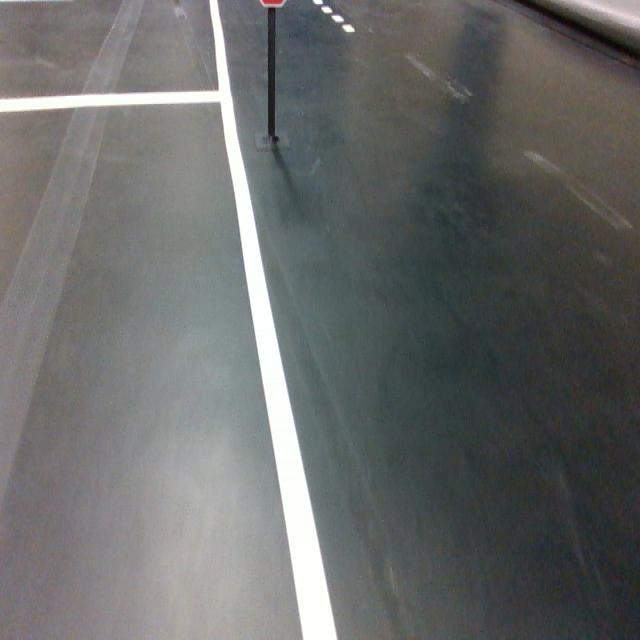stop-sign: (258, 0, 287, 8)
